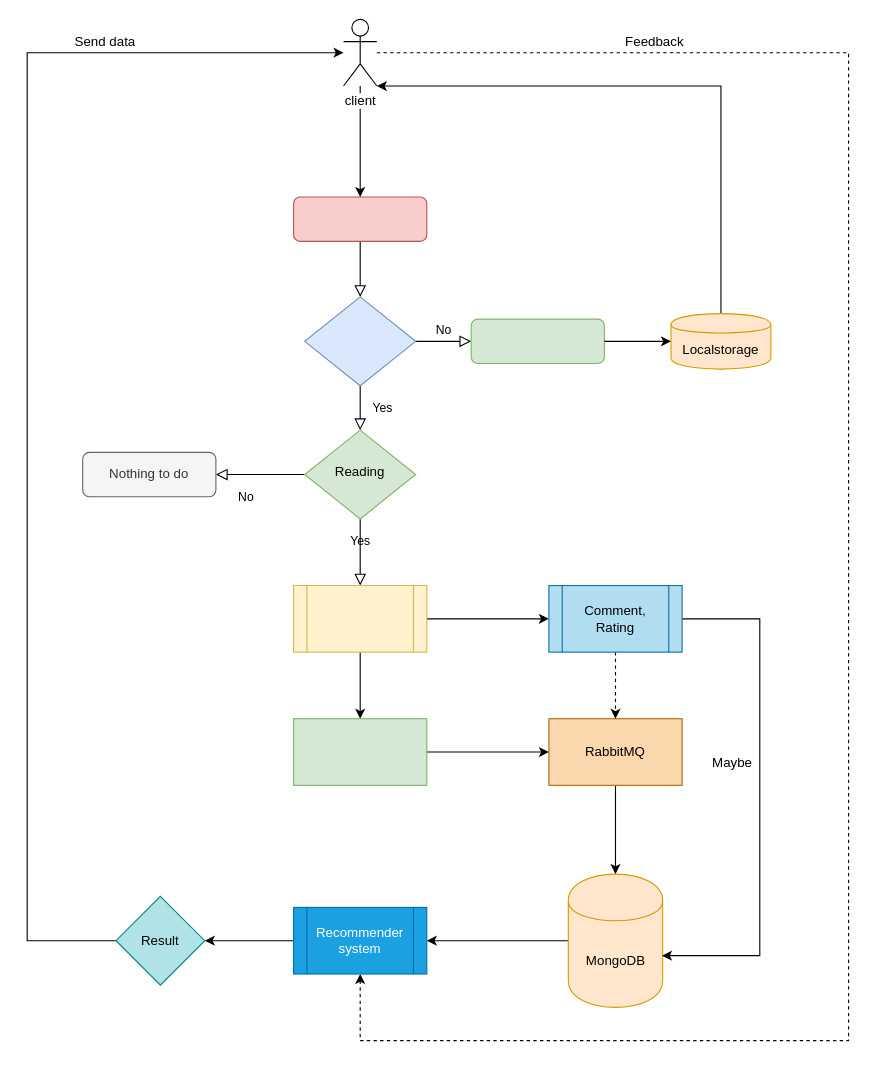
Image size: 877x1069. Some labels were removed from this diagram. The box of each missing label's shape, as (x1, y1, x2, y2) in pixels:
Access: (292, 196, 427, 241)
Login/Regsiter: (304, 296, 416, 386)
Many Action/Manga /Chapter: (292, 584, 427, 652)
Save history reading: (470, 318, 604, 364)
Save history reading + View: (292, 718, 427, 785)
